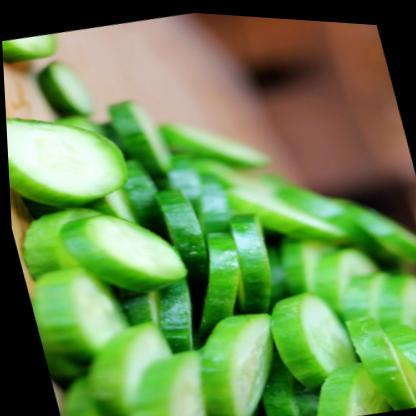--: (4, 87, 148, 228), (42, 196, 187, 303), (250, 278, 370, 400), (88, 313, 230, 416)
